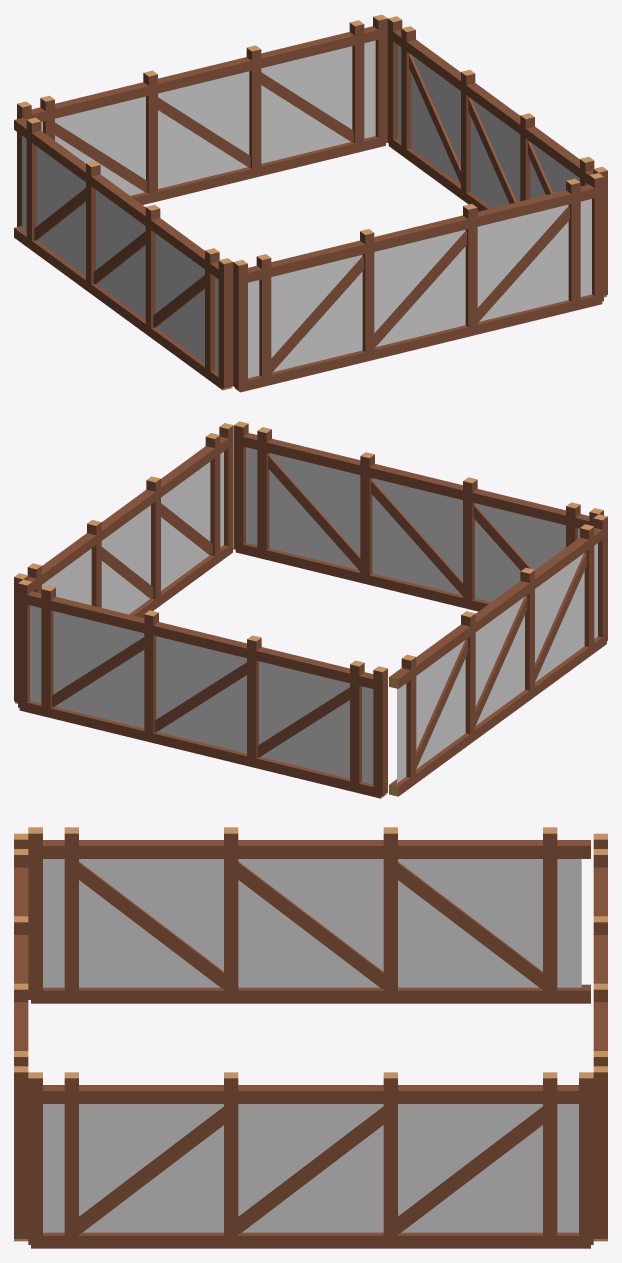
Rendered from Scaffold.fbx.
3 views of the same model, one above another, from view 1: azimuth 30°, elevation 25°; view 2: azimuth 150°, elevation 25°; view 3: azimuth 270°, elevation 25° (orthographic). The views are drawn at different scales.
Parts seen in each view (by area): view 1: Scaffold; view 2: Scaffold; view 3: Scaffold.
Boxes of the visible parts, left/top/right/bottom form: Scaffold: left=14, top=14, right=607, bottom=392; Scaffold: left=14, top=421, right=607, bottom=798; Scaffold: left=14, top=827, right=607, bottom=1248.
Size of the model in its own units: 4.1 by 1.29 by 4.1.
Materials: 1 (1 with a texture image).
